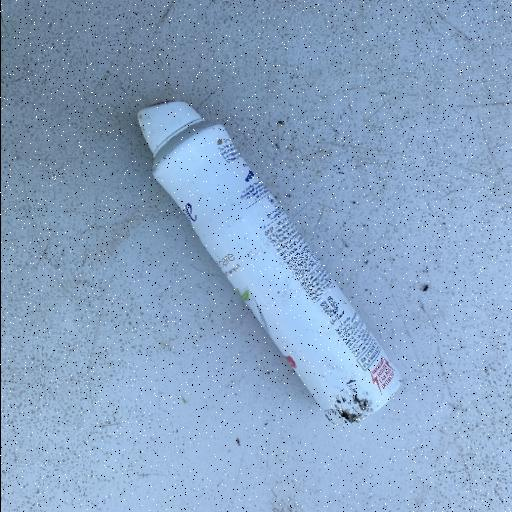Metal: (134, 98, 402, 428)
